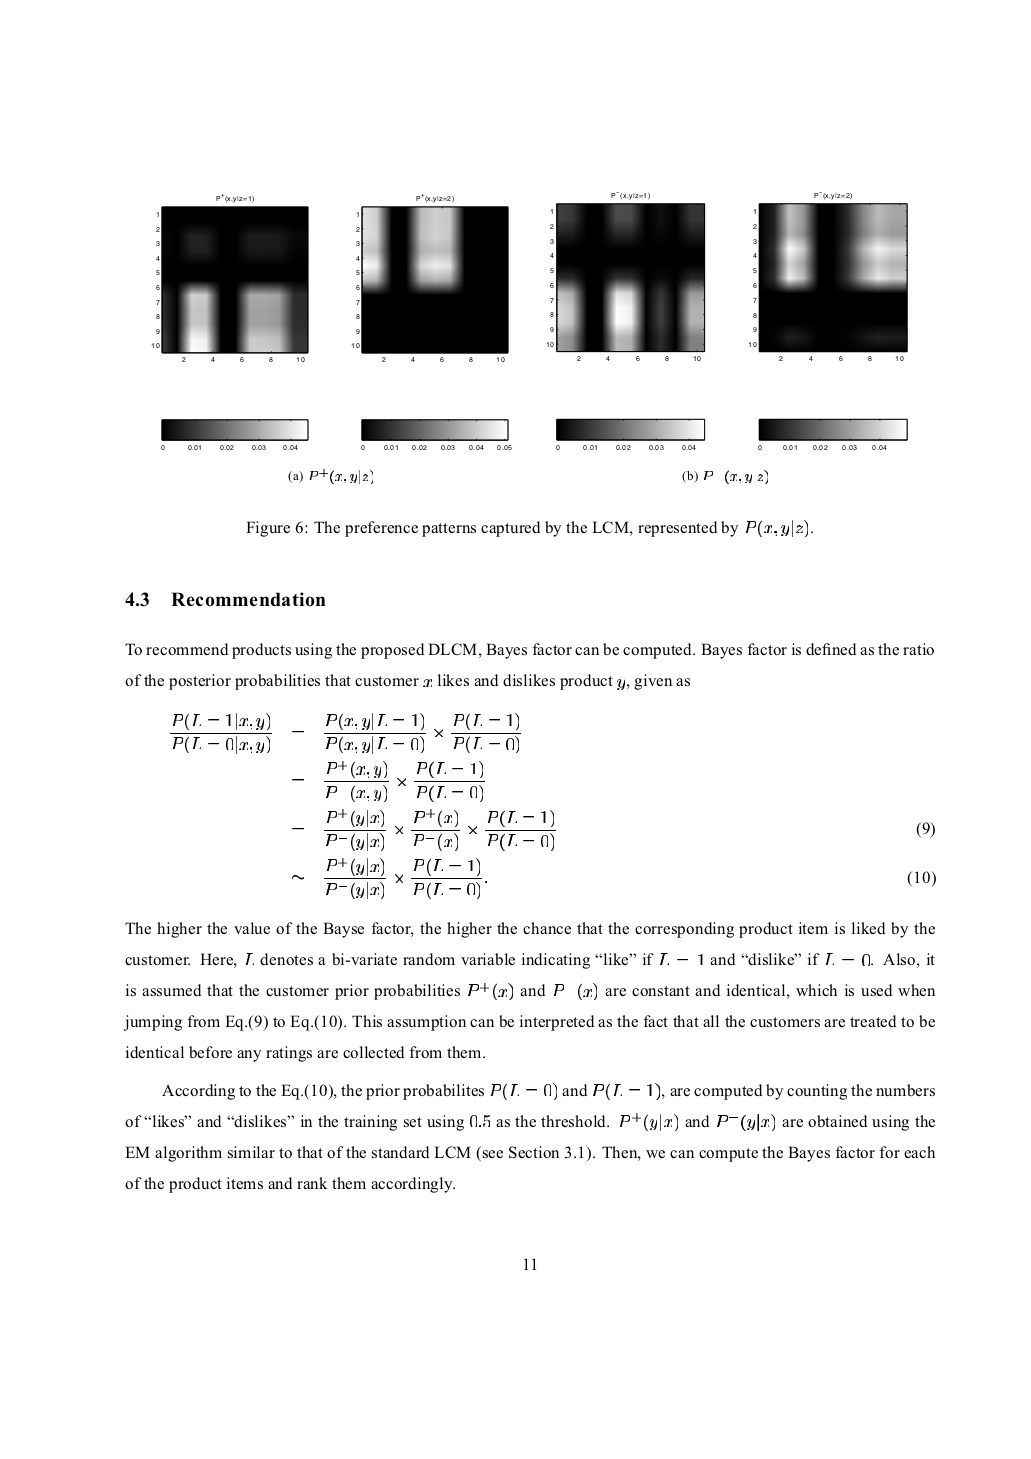figure: (546, 199, 705, 360), (750, 203, 907, 360), (151, 206, 308, 361), (351, 206, 508, 361), (556, 418, 705, 450), (758, 418, 907, 450), (362, 419, 511, 450), (161, 419, 308, 450)
formula: (292, 808, 934, 851), (292, 857, 935, 899), (170, 712, 520, 754), (292, 760, 484, 802)
